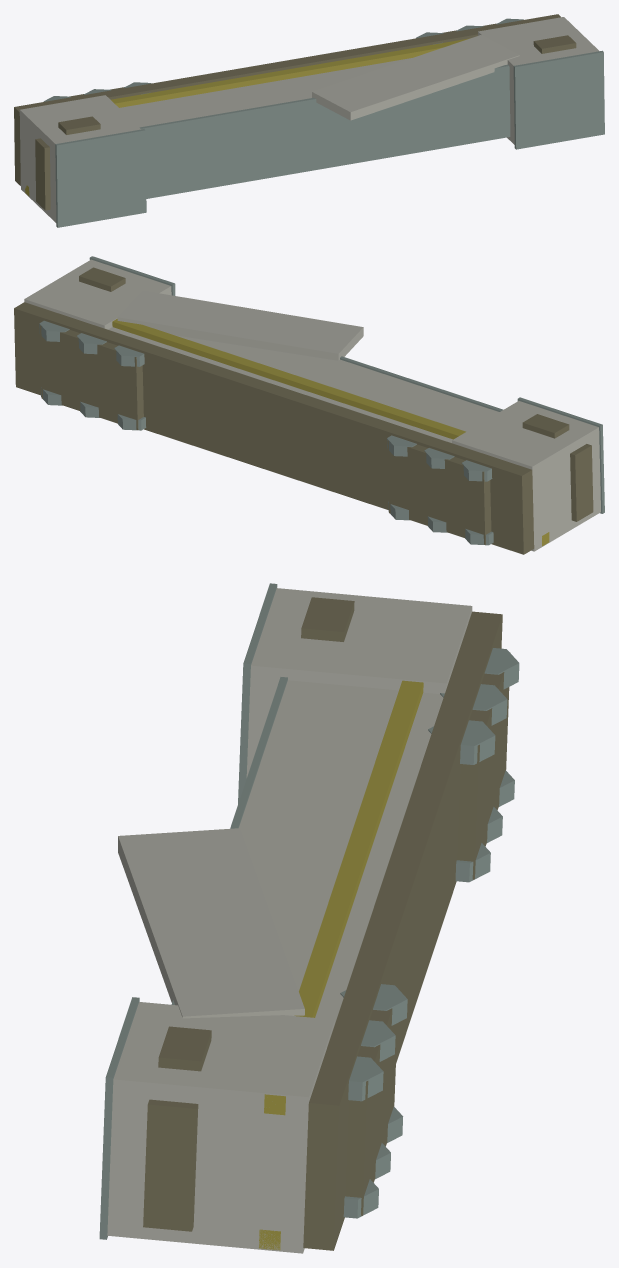
The model's file is SM_Locomotora_v2_Volcada_LOD1.fbx.
3 views of the same model, one above another, from view 1: azimuth 30°, elevation 25°; view 2: azimuth 150°, elevation 25°; view 3: azimuth 270°, elevation 25° (orthographic). The views are drawn at different scales.
Visible parts, largest first — view 1: SM_aqui_paso_algo_v2_LOD1; view 2: SM_aqui_paso_algo_v2_LOD1; view 3: SM_aqui_paso_algo_v2_LOD1.
Boxes of the visible parts, x1,y1,x2,y2 form: SM_aqui_paso_algo_v2_LOD1: (14, 14, 604, 227); SM_aqui_paso_algo_v2_LOD1: (14, 256, 604, 554); SM_aqui_paso_algo_v2_LOD1: (99, 583, 519, 1253).
Bounding box in the file's own units: 19.45 × 3.18 × 6.8.
